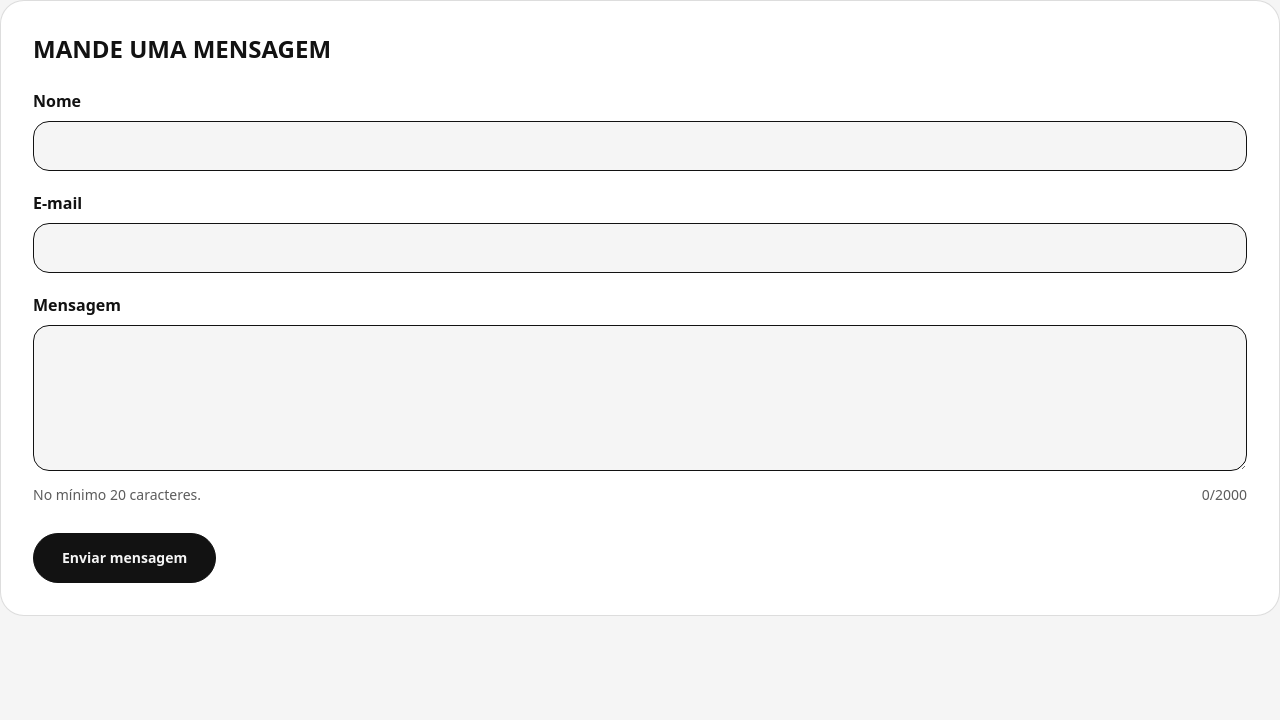
Scenario: ContactForm › mostra a mensagem de cada campo e não envia quando está vazio
Click the button "Enviar mensagem" at [125, 558], box [33,533,216,583]
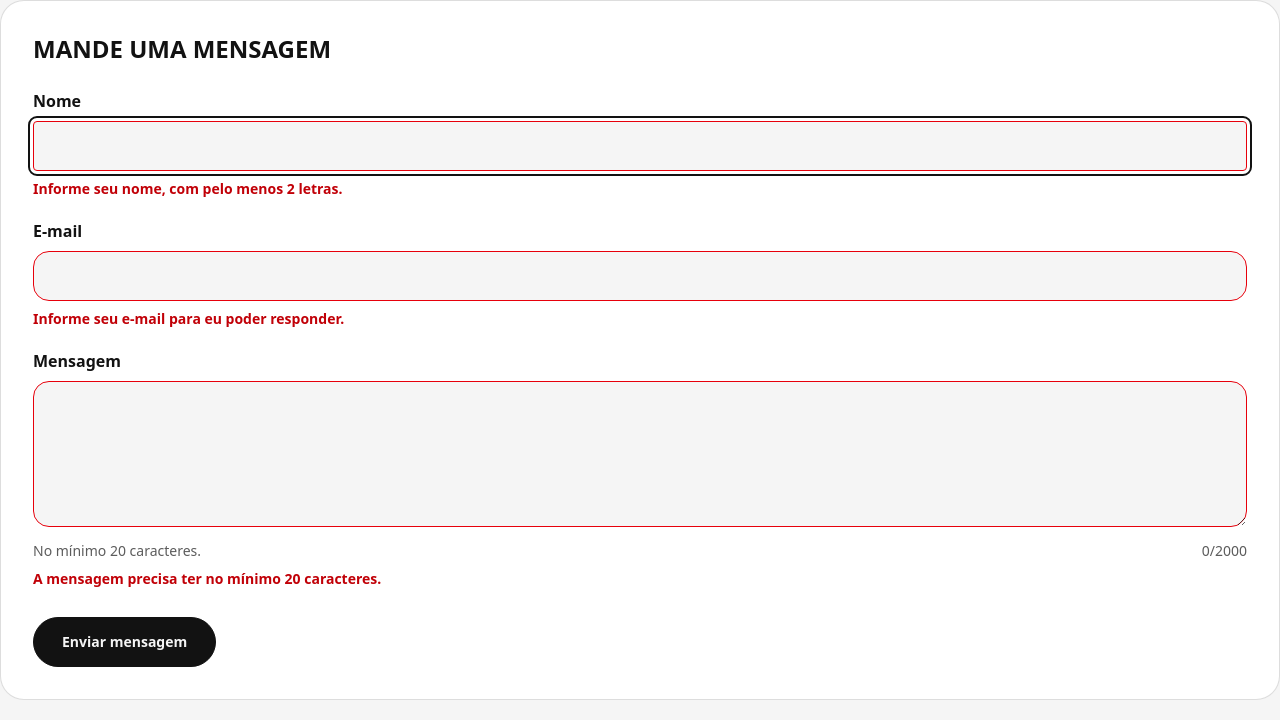
Now the text "Informe seu nome, com pelo menos 2 letras." is shown, box [33,179,342,198]
Now the text "Informe seu e-mail para eu poder responder." is shown, box [33,309,344,328]
Now the text "A mensagem precisa ter no mínimo 20 caracteres." is shown, box [33,569,381,588]
